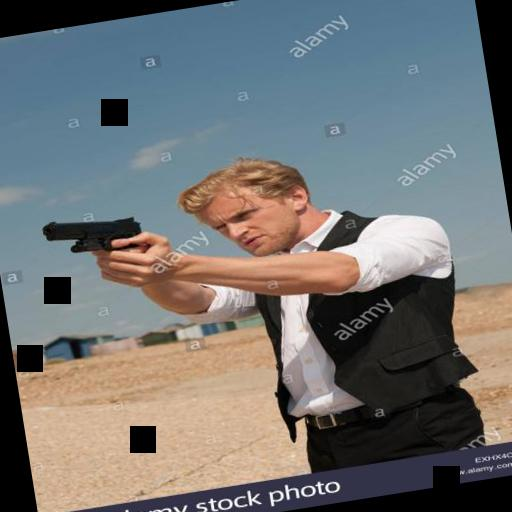Handgun: (36, 202, 148, 266)
